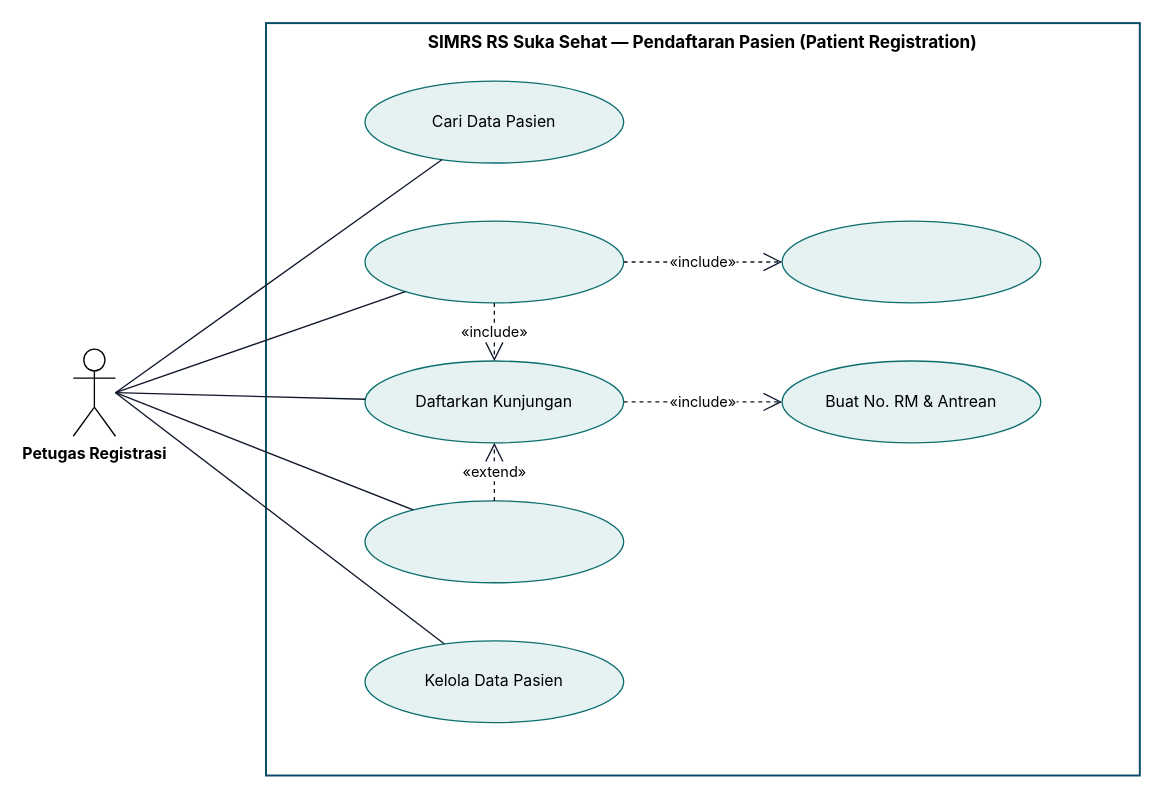
This 1164x800 diagram has some shape labels left out. Each missing label, with the centre of its shape:
"Cetak Bukti Pendaftaran" belongs at pixel 494 541.
"Daftarkan Pasien Baru" belongs at pixel 494 261.
"Validasi NIK & Data Wajib" belongs at pixel 911 261.
